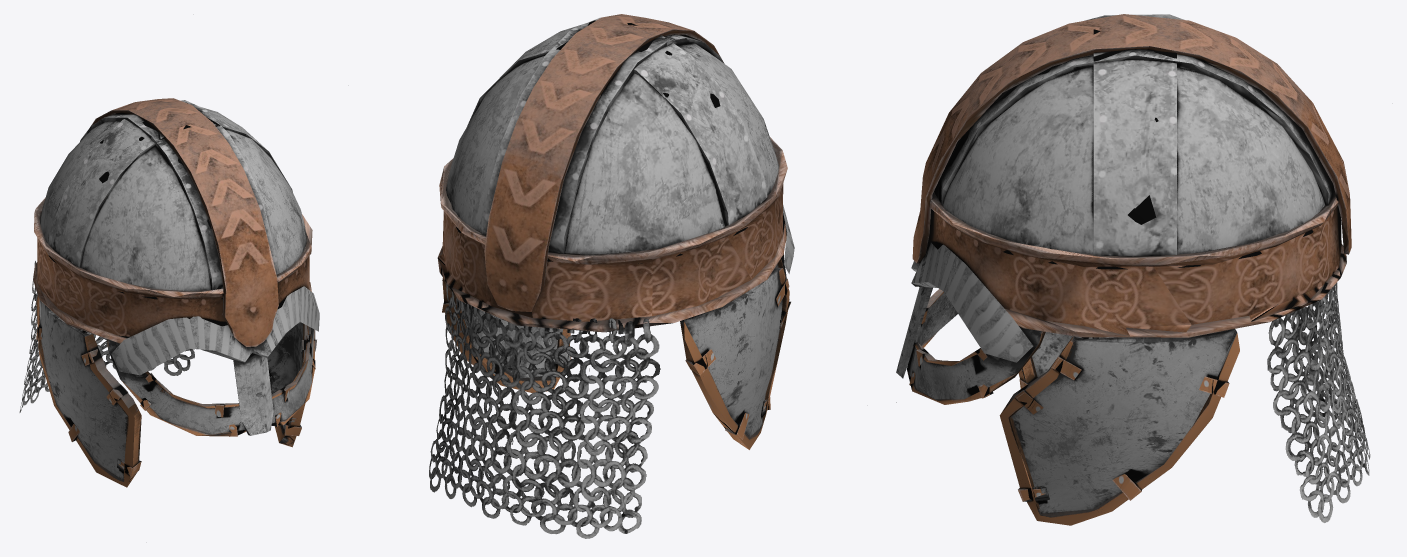
The model's file is Helm_LOD1.dae.
3 views of the same model, side by side, from view 1: azimuth 30°, elevation 25°; view 2: azimuth 150°, elevation 25°; view 3: azimuth 270°, elevation 25° (orthographic). The views are drawn at different scales.
Parts seen in each view (by area): view 1: Helm_LOD1; view 2: Helm_LOD1; view 3: Helm_LOD1.
Boxes of the visible parts, <box> form: Helm_LOD1: <box>19,98,319,487</box>; Helm_LOD1: <box>429,14,794,538</box>; Helm_LOD1: <box>896,14,1370,525</box>.
Bounding box in the file's own units: 0.2341 × 0.3234 × 0.3239.
Materials: 3 (3 with a texture image).
